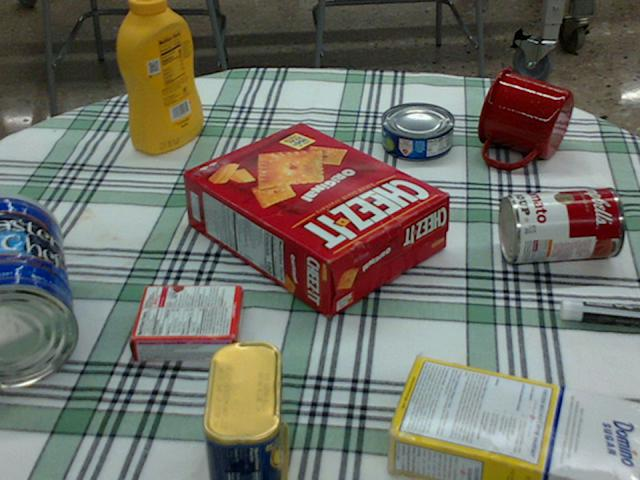cracker_box: (182, 120, 446, 316)
gelatin_box: (131, 283, 243, 360)
large_marker: (560, 297, 639, 327)
master_chef_can: (0, 192, 79, 386)
mug: (477, 66, 572, 168)
mustard_bottle: (118, 0, 202, 153)
potted_meat_can: (200, 338, 288, 479)
sugar_box: (383, 359, 639, 479)
tomato_soup_can: (498, 187, 623, 261)
tuna_fish_can: (381, 103, 454, 160)
